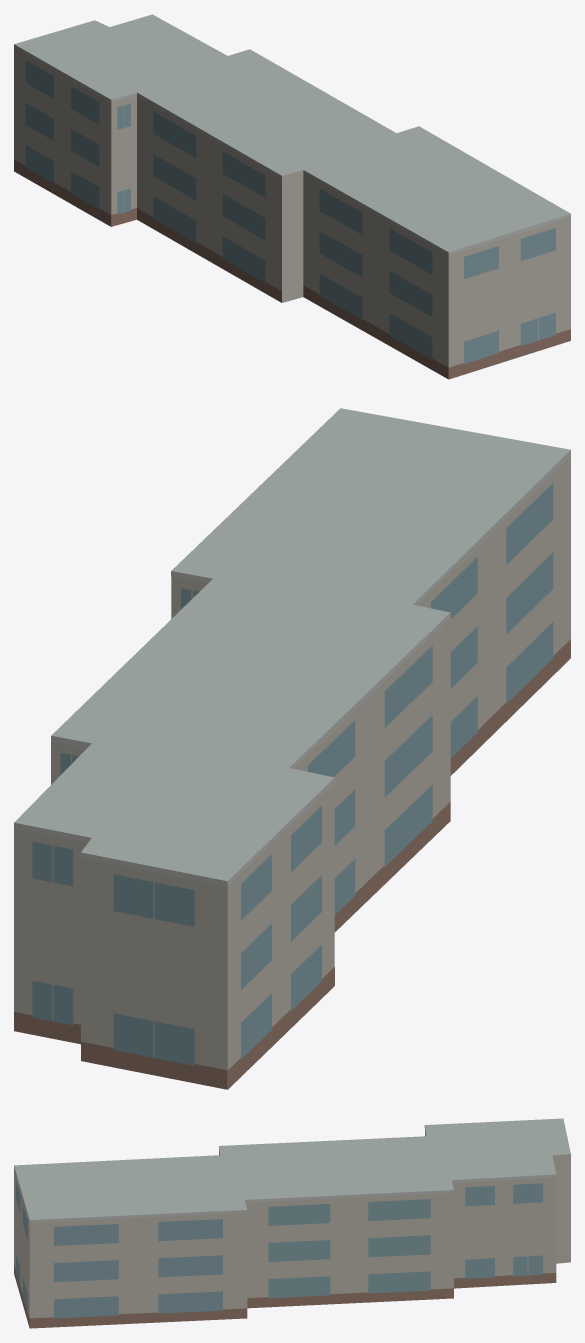
Rendered from survey-upis-32617463.glb.
3 views of the same model, one above another, from view 1: azimuth 30°, elevation 25°; view 2: azimuth 150°, elevation 25°; view 3: azimuth 270°, elevation 25° (orthographic). The views are drawn at different scales.
Parts seen in each view (by area): view 1: survey-upis-32617463.tmp; view 2: survey-upis-32617463.tmp; view 3: survey-upis-32617463.tmp.
Boxes of the visible parts, bbox=[...] form: survey-upis-32617463.tmp: bbox=[14, 14, 570, 379]; survey-upis-32617463.tmp: bbox=[14, 408, 570, 1089]; survey-upis-32617463.tmp: bbox=[14, 1118, 570, 1328].
Size of the model in its own units: 18.39 by 9.15 by 42.58.
